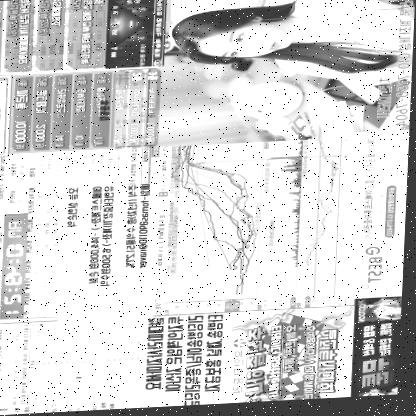streamer: (169, 0, 416, 96)
